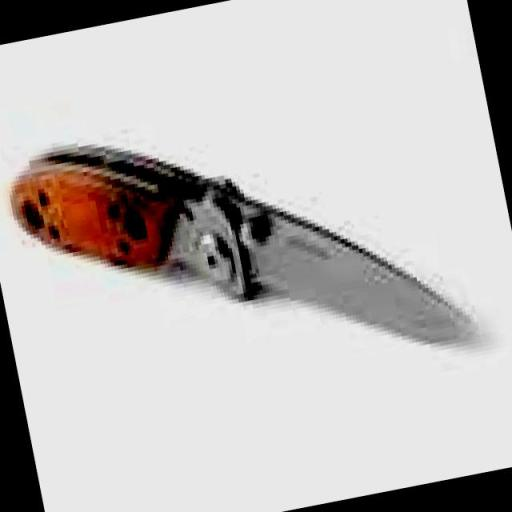knife: (0, 50, 478, 431)
